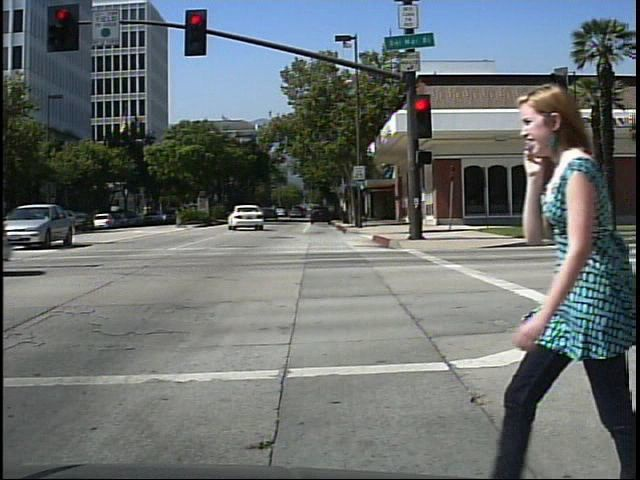person: (502, 71, 634, 480)
